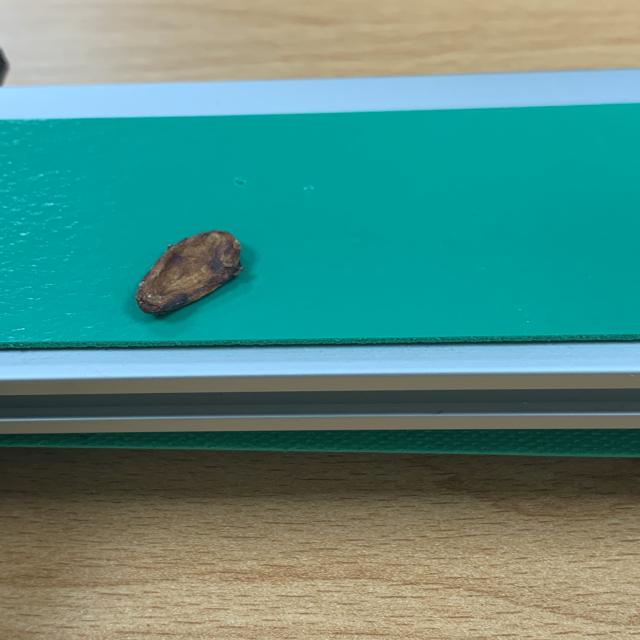Flat_cocoabeans: (0, 201, 305, 353)
